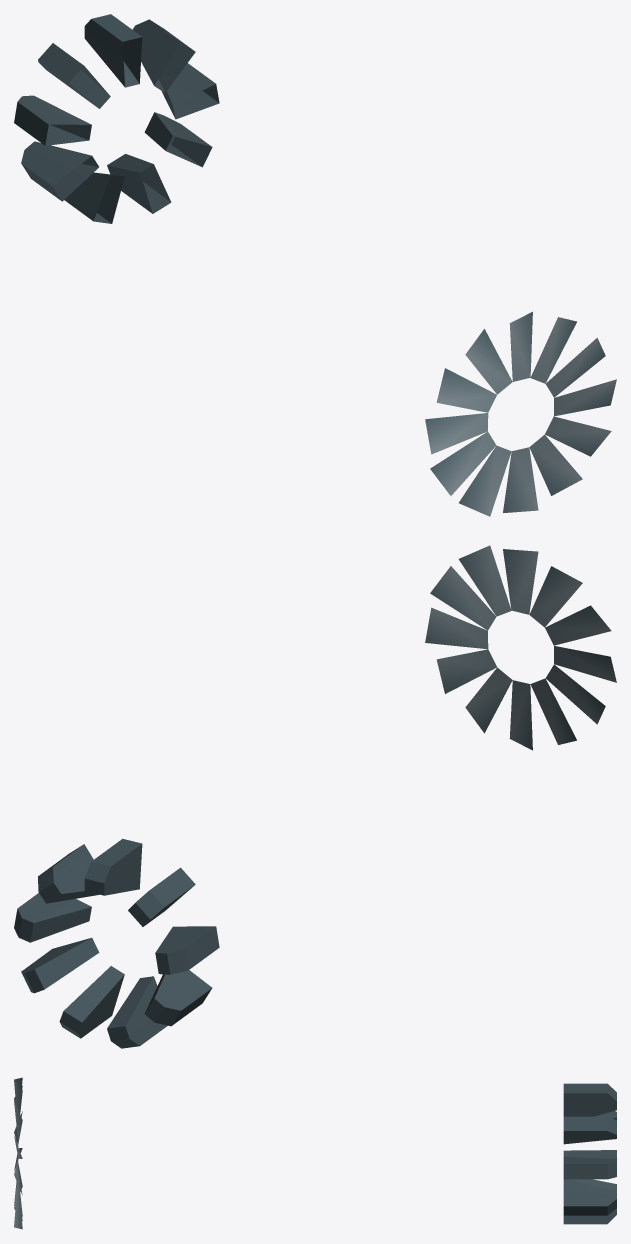
Rendered from Generator_rotor_004.fbx.
The picture shows the model from 3 angles, top to bottom: view 1: azimuth 30°, elevation 25°; view 2: azimuth 150°, elevation 25°; view 3: azimuth 270°, elevation 25°; orthographic projection. The views are drawn at different scales.
Visible parts, largest first — view 1: Generator_rotor_004; view 2: Generator_rotor_004; view 3: Generator_rotor_004.
Boxes of the visible parts, bbox=[...] form: Generator_rotor_004: bbox=[14, 14, 616, 516]; Generator_rotor_004: bbox=[14, 545, 616, 1048]; Generator_rotor_004: bbox=[14, 1077, 616, 1229].
Size of the model in its own units: 60.84 by 244 by 60.84.
